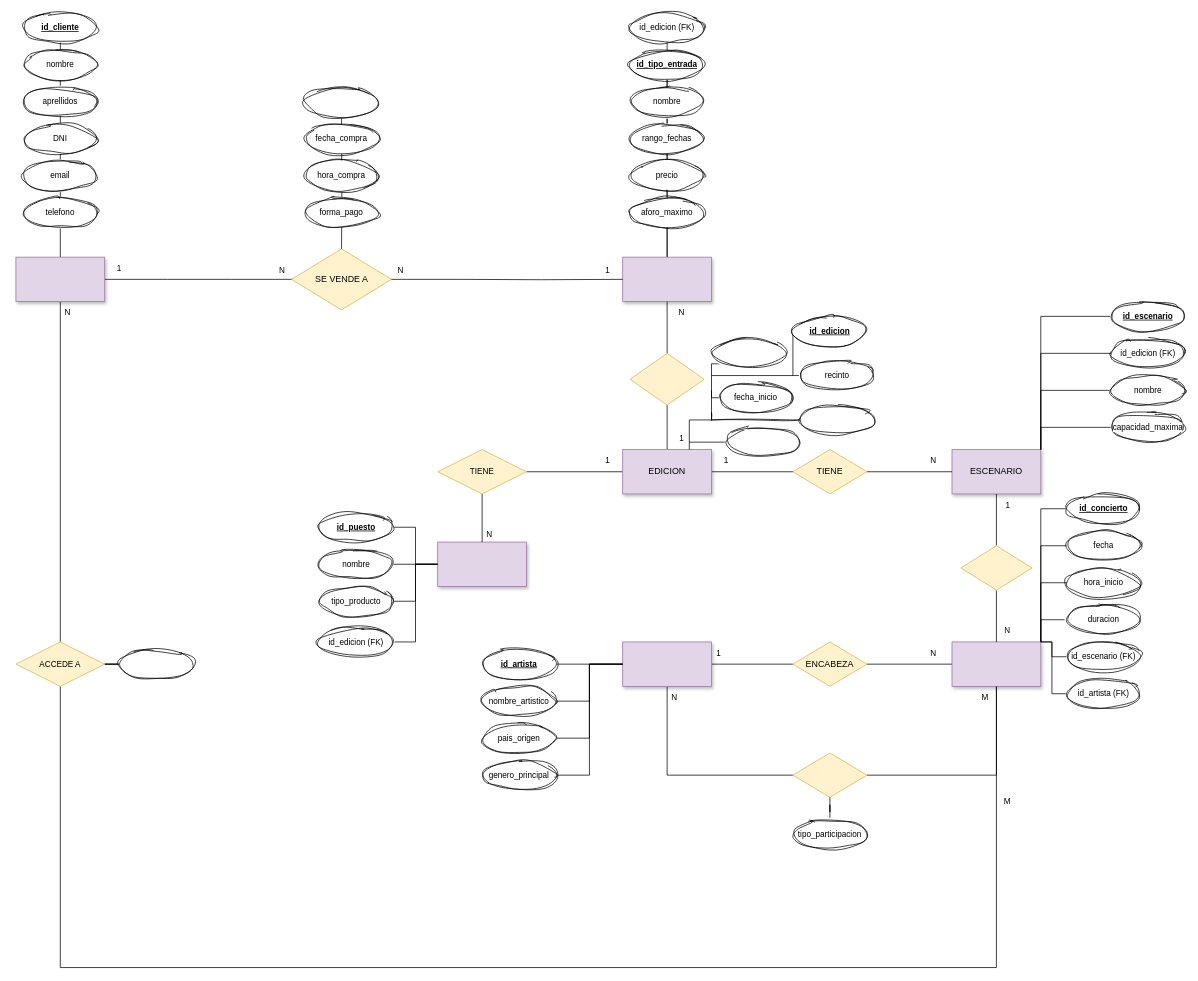
Some shapes in this 1198 by 981 pixel diagram are drawn without their labels. The shapes that lost their labels are listed below. From the top down, each one's centre as x and y in pixels, then its label:
At pixel 341 101: "cantidad".
At pixel 60 280: "CLIENTE".
At pixel 667 280: "TIPO_ENTRADA".
At pixel 748 353: "codigo_edicion".
At pixel 666 379: "DEFINE".
At pixel 837 419: "ciudad".
At pixel 763 442: "fecha_fin".
At pixel 482 565: "PUESTO".
At pixel 996 567: "SE HACE".
At pixel 156 664: "hora_acceso".
At pixel 667 665: "ARTISTA".
At pixel 996 665: "CONCIERTO".
At pixel 829 774: "COLABORA".
